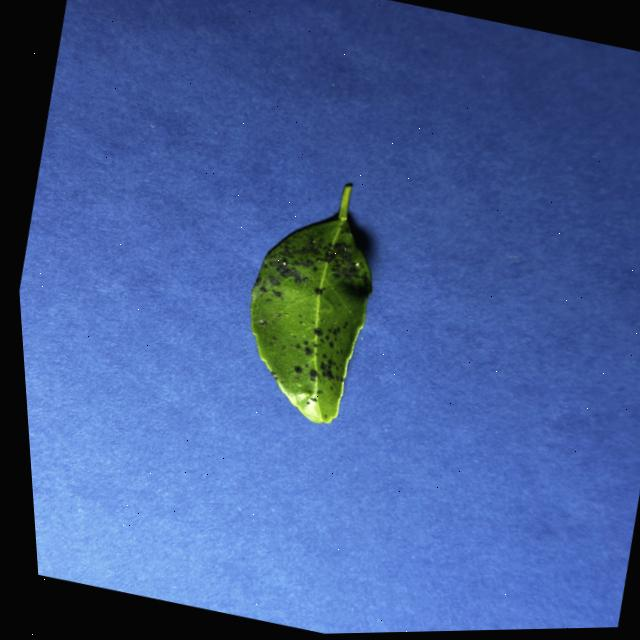sooty_mold: (249, 185, 370, 421)
